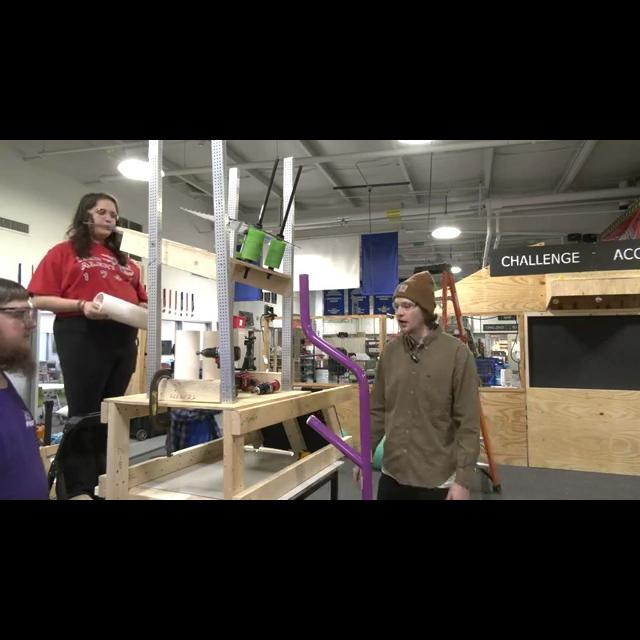CORAL: (88, 290, 148, 330), (176, 330, 200, 380), (202, 330, 220, 378)
